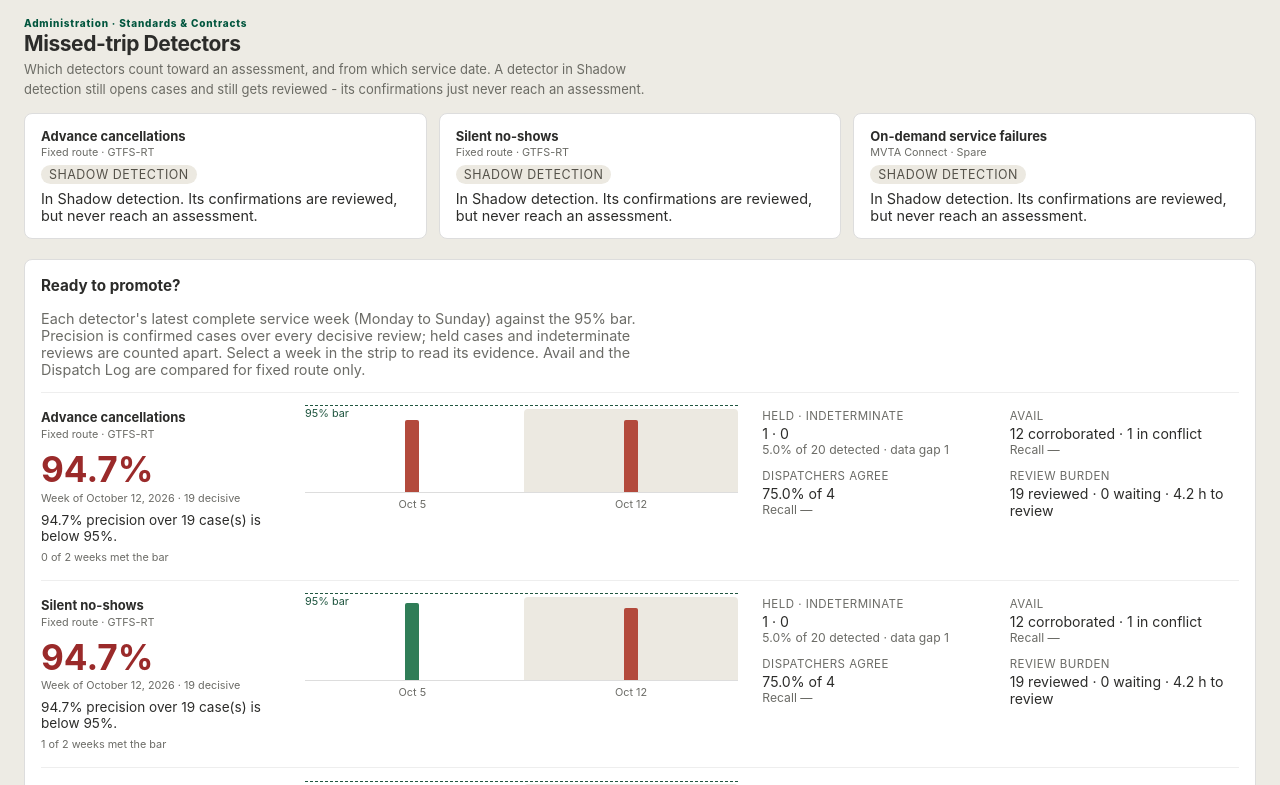
Scenario: Missed-trip detector promotion › fills the promotion form from a week that meets the bar, and goes to the date
The width and height of the screenshot is (1280, 785).
What coordinates should you click on to do the following:
click the button named "Week of October 5, 2026: 97.2% of 143. 97.2% precision over"
I would click on:
 (412, 638)
Its box is [305, 597, 520, 680].
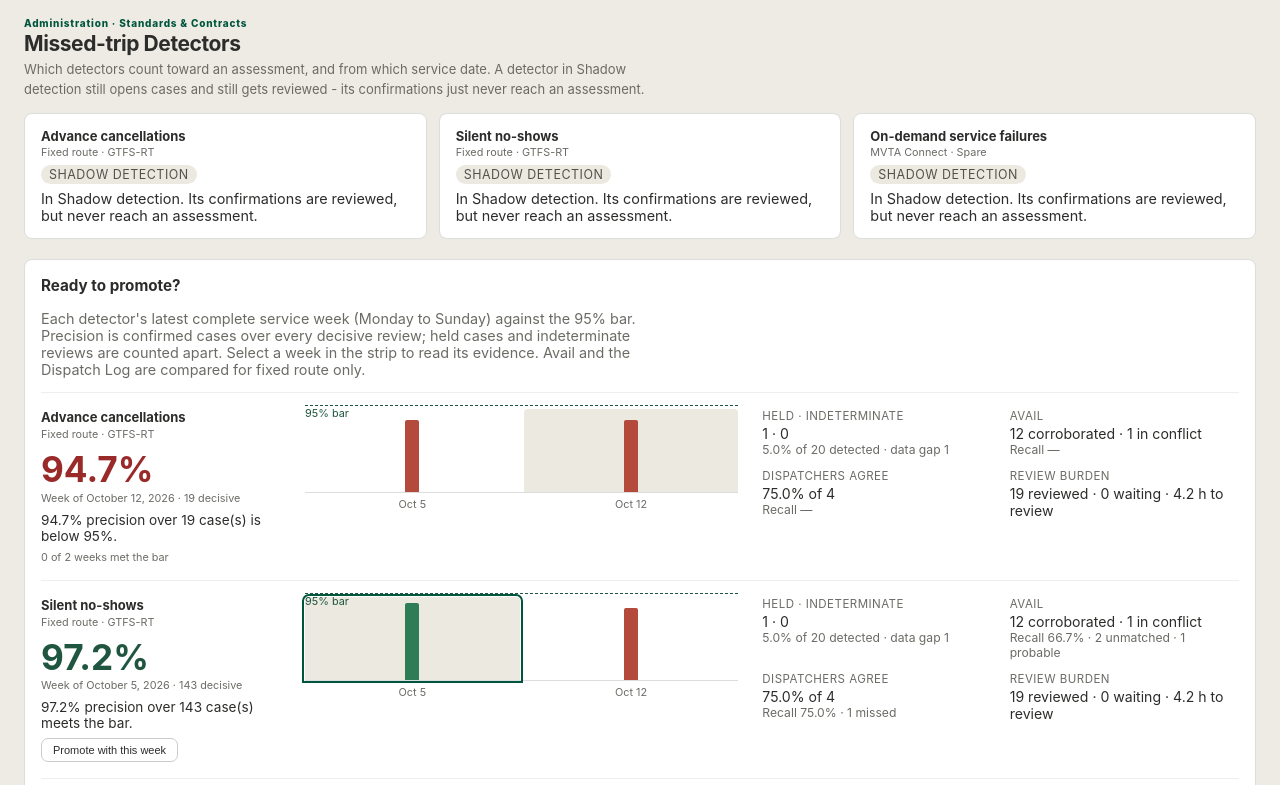
What coordinates should you click on to do the following:
click the button "Promote with this week"
I would click on:
 (110, 750)
Its box is [41, 738, 178, 762].
(page scrolled)
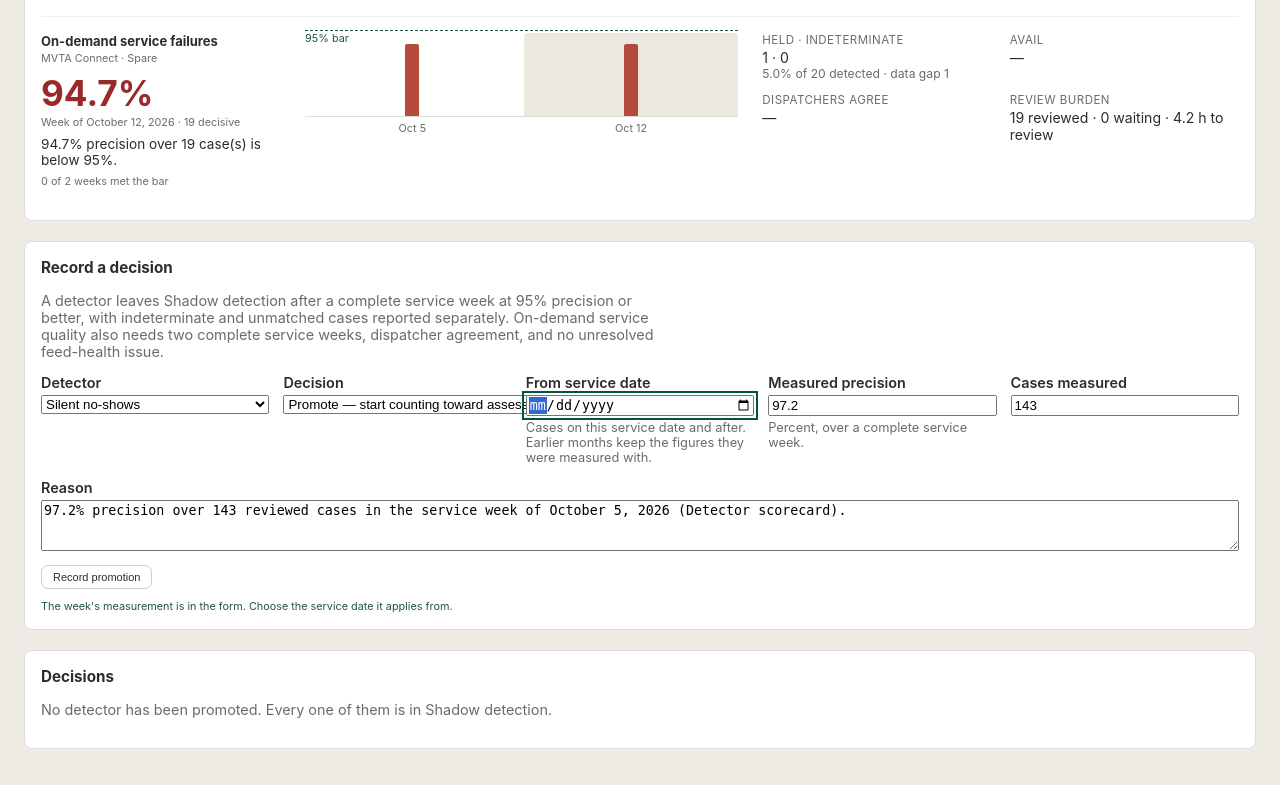
expect the number field labelled "Measured precision" holds "97.2": met, box [768, 395, 997, 416]
expect the number field labelled "Cases measured" holds "143": met, box [1011, 395, 1239, 416]
